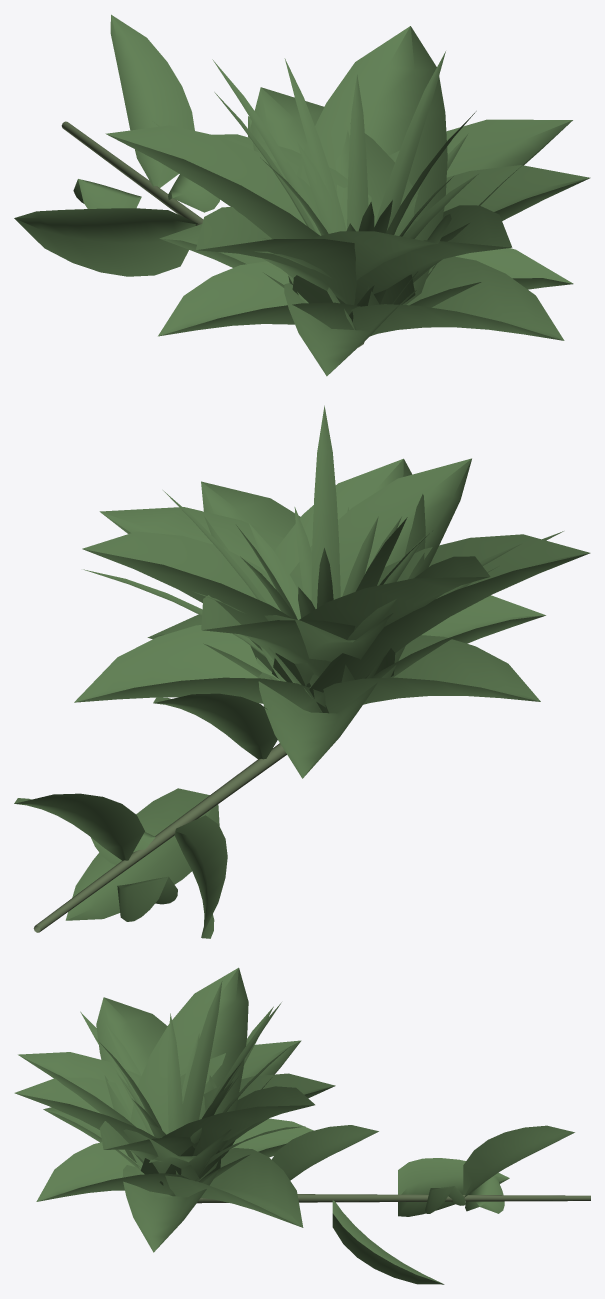
The model's file is lunar-crops.glb.
The picture shows the model from 3 angles, top to bottom: view 1: azimuth 30°, elevation 25°; view 2: azimuth 150°, elevation 25°; view 3: azimuth 270°, elevation 25°; orthographic projection. The views are drawn at different scales.
Parts seen in each view (by area): view 1: CropLeafy_Leaf, CropStalk_Leaf, CropHerb_Leaf, CropStalk_Stem; view 2: CropLeafy_Leaf, CropStalk_Leaf, CropHerb_Leaf, CropStalk_Stem; view 3: CropLeafy_Leaf, CropStalk_Leaf, CropHerb_Leaf, CropStalk_Stem.
Boxes of the visible parts, bbox=[...] form: CropLeafy_Leaf: bbox=[105, 26, 590, 376]; CropStalk_Leaf: bbox=[14, 14, 251, 276]; CropHerb_Leaf: bbox=[151, 51, 478, 278]; CropStalk_Stem: bbox=[61, 121, 362, 343]; CropLeafy_Leaf: bbox=[74, 458, 590, 778]; CropStalk_Leaf: bbox=[14, 693, 277, 938]; CropHerb_Leaf: bbox=[83, 405, 563, 662]; CropStalk_Stem: bbox=[33, 743, 286, 932]; CropLeafy_Leaf: bbox=[14, 967, 335, 1252]; CropStalk_Leaf: bbox=[271, 1125, 574, 1284]; CropHerb_Leaf: bbox=[80, 981, 305, 1166]; CropStalk_Stem: bbox=[203, 1194, 590, 1202].
Size of the model in its own units: 0.6813 by 0.5243 by 1.1.
